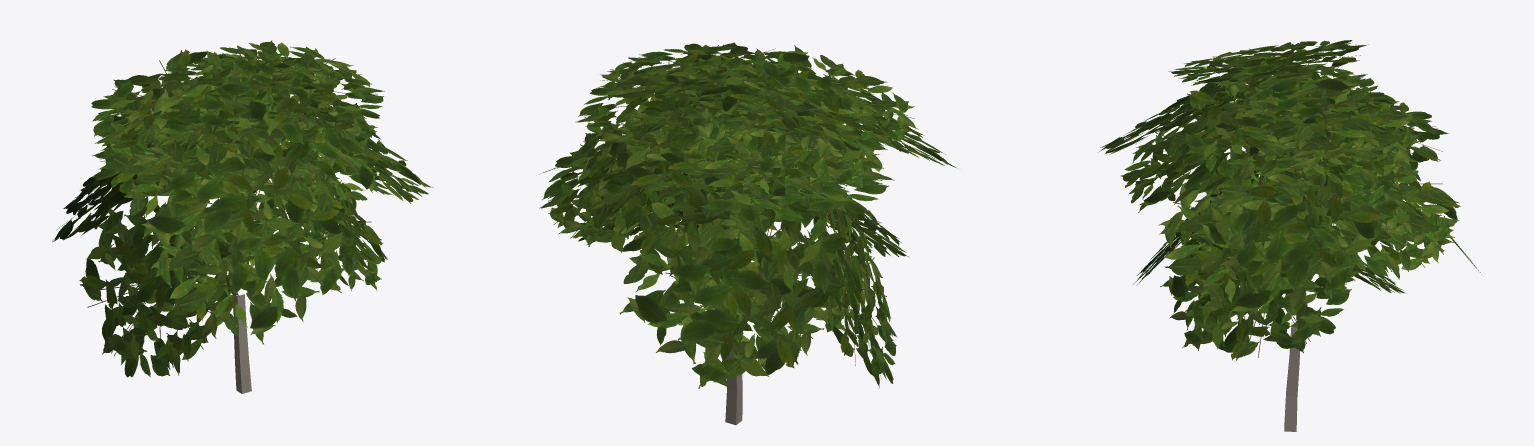
The model's file is mangrove_a_far.glb.
3 views of the same model, side by side, from view 1: azimuth 30°, elevation 25°; view 2: azimuth 150°, elevation 25°; view 3: azimuth 270°, elevation 25° (orthographic). The views are drawn at different scales.
Parts seen in each view (by area): view 1: mangrove_a_far; view 2: mangrove_a_far; view 3: mangrove_a_far.
Boxes of the visible parts, <box> form: mangrove_a_far: <box>52,40,433,393</box>; mangrove_a_far: <box>539,42,956,425</box>; mangrove_a_far: <box>1099,40,1481,431</box>.
Bounding box in the file's own units: 9.25 × 7.44 × 8.59.
2 materials, 1 textured.
